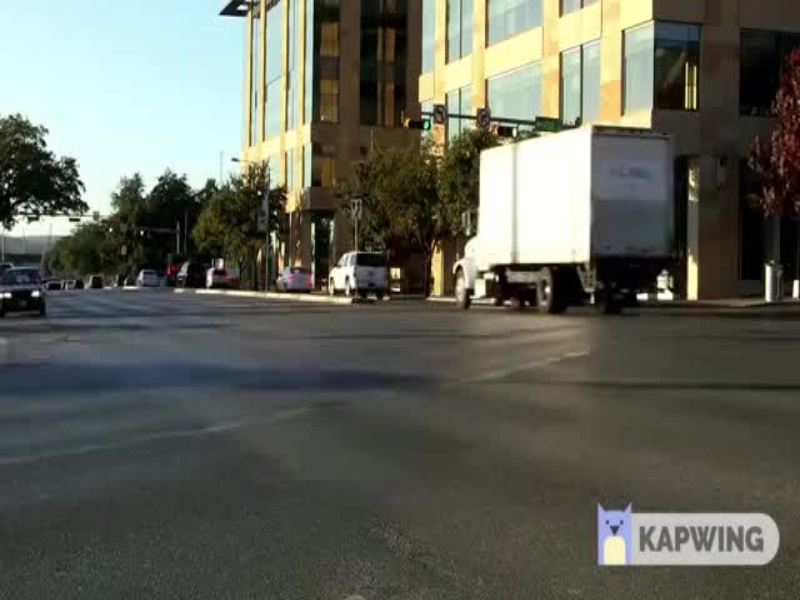car: (318, 250, 401, 300), (1, 261, 51, 322)
semi: (449, 124, 687, 309)
